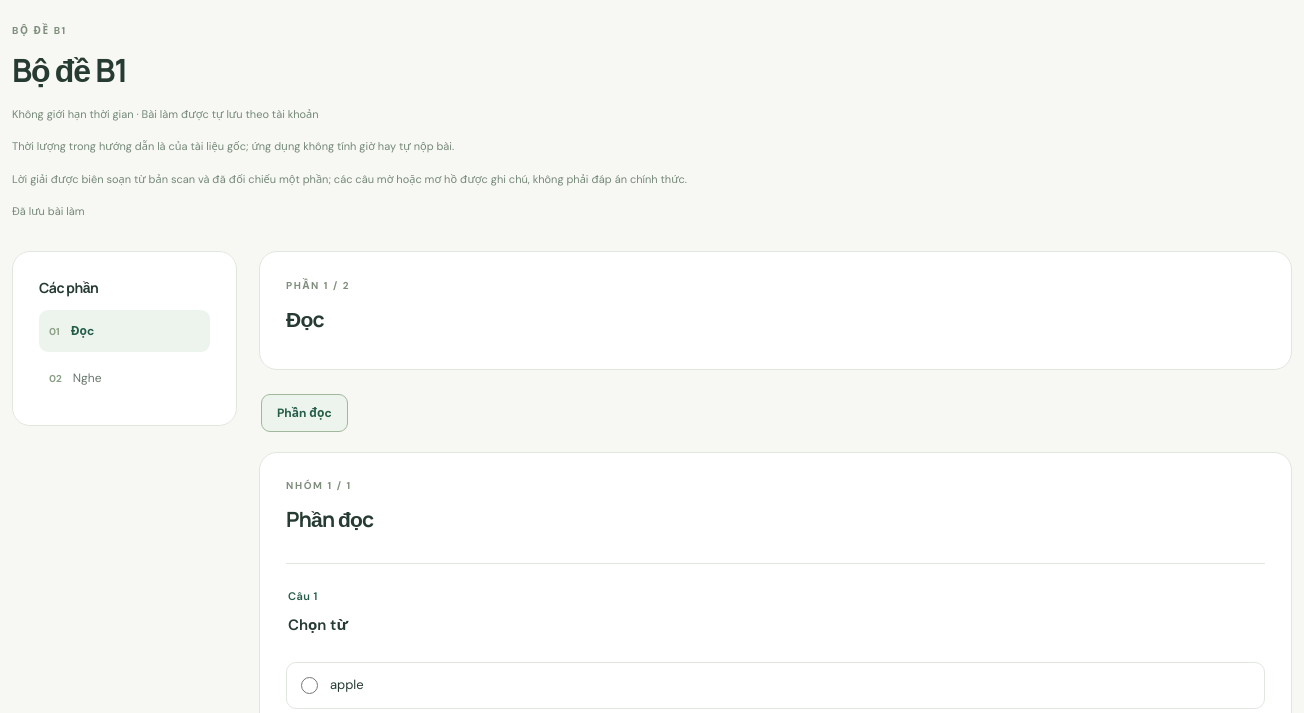
Bộ đề B1 › shows reading answers on demand and keeps selections across sections
Check: the text "Chọn từ" is shown, box [288,614,348,634]
Click the radio button labelled "apple" at [310, 686], box [301,677,318,694]
(page scrolled)
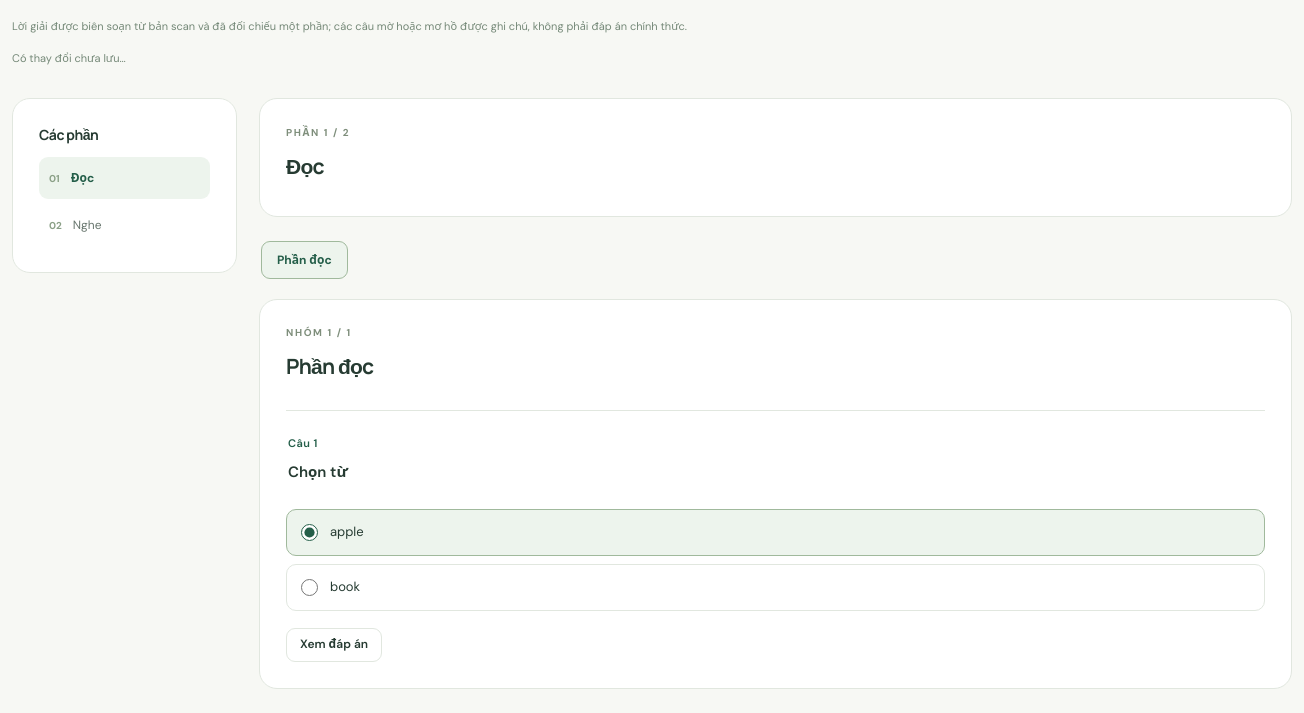
Click the button "Xem đáp án" at [334, 645], box [286,628,382,662]
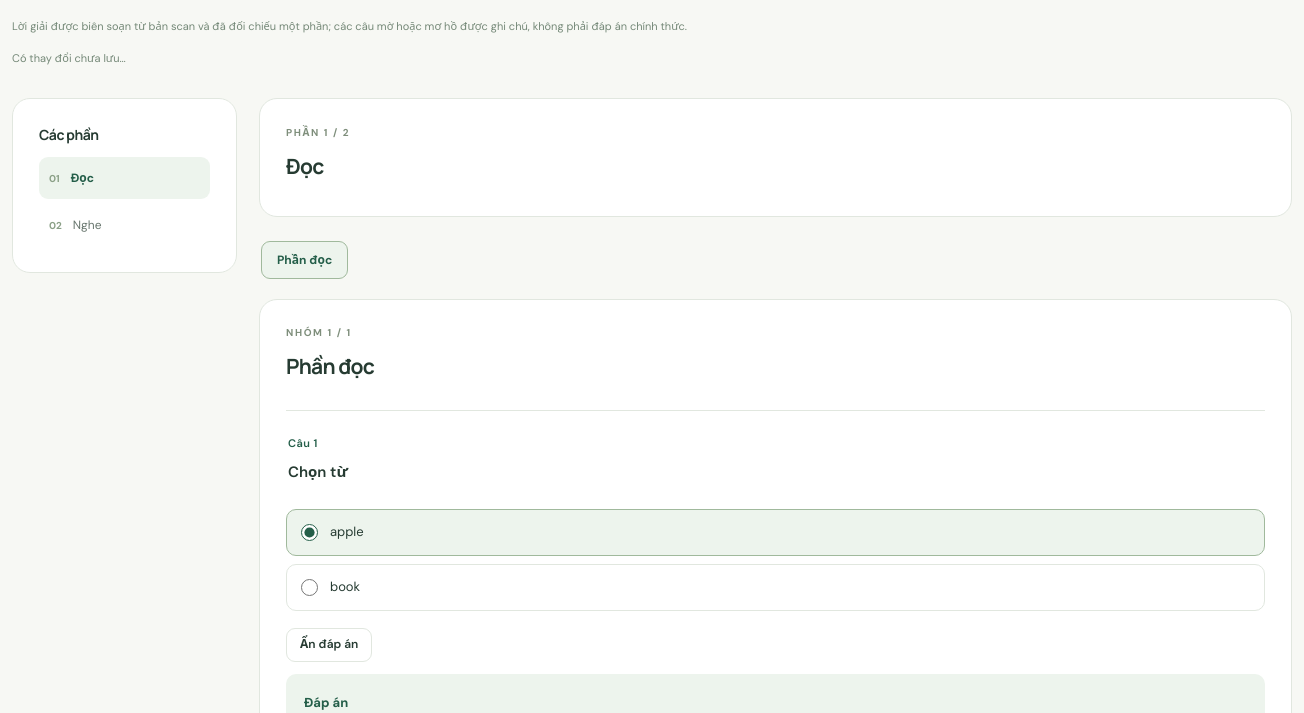
Click the button "02 Nghe" at [124, 226], box [39,204,210,246]
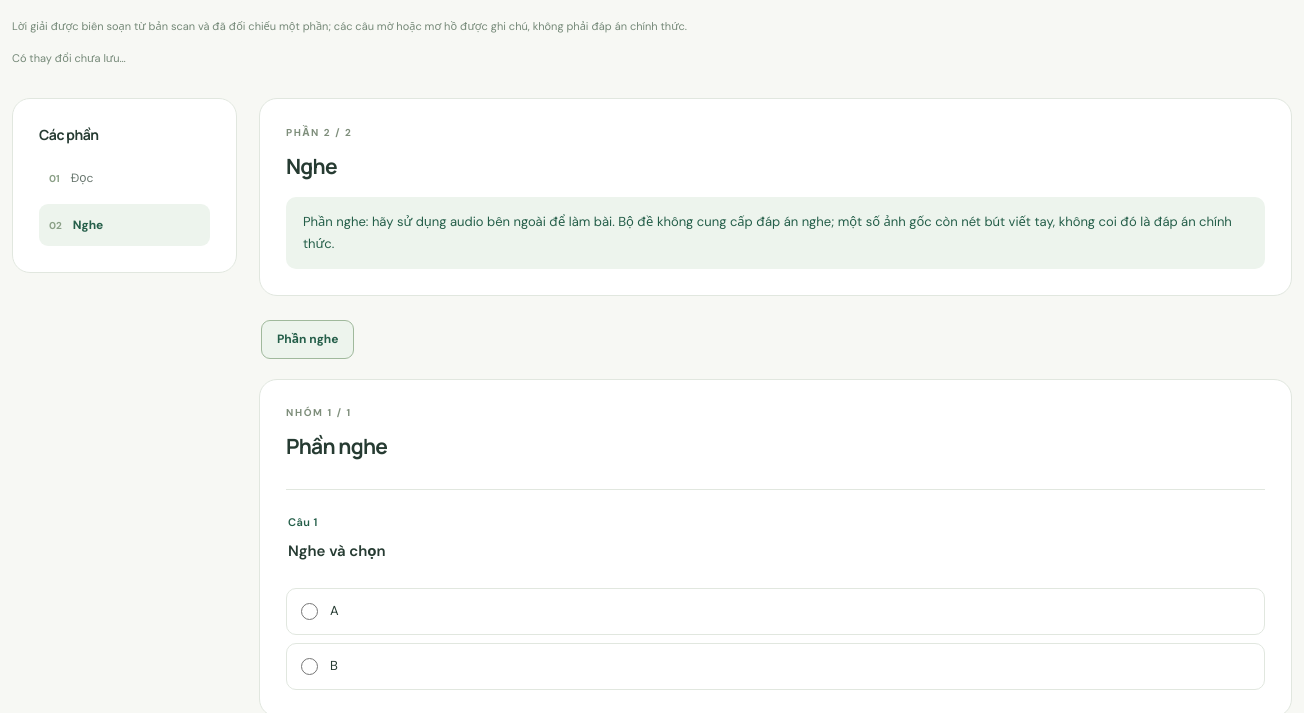
Check: the button "Xem đáp án" is not shown
Check: the text "Nghe và chọn" is shown, box [288,541,386,561]
Click the radio button labelled "A" at [310, 612], box [301,603,318,620]
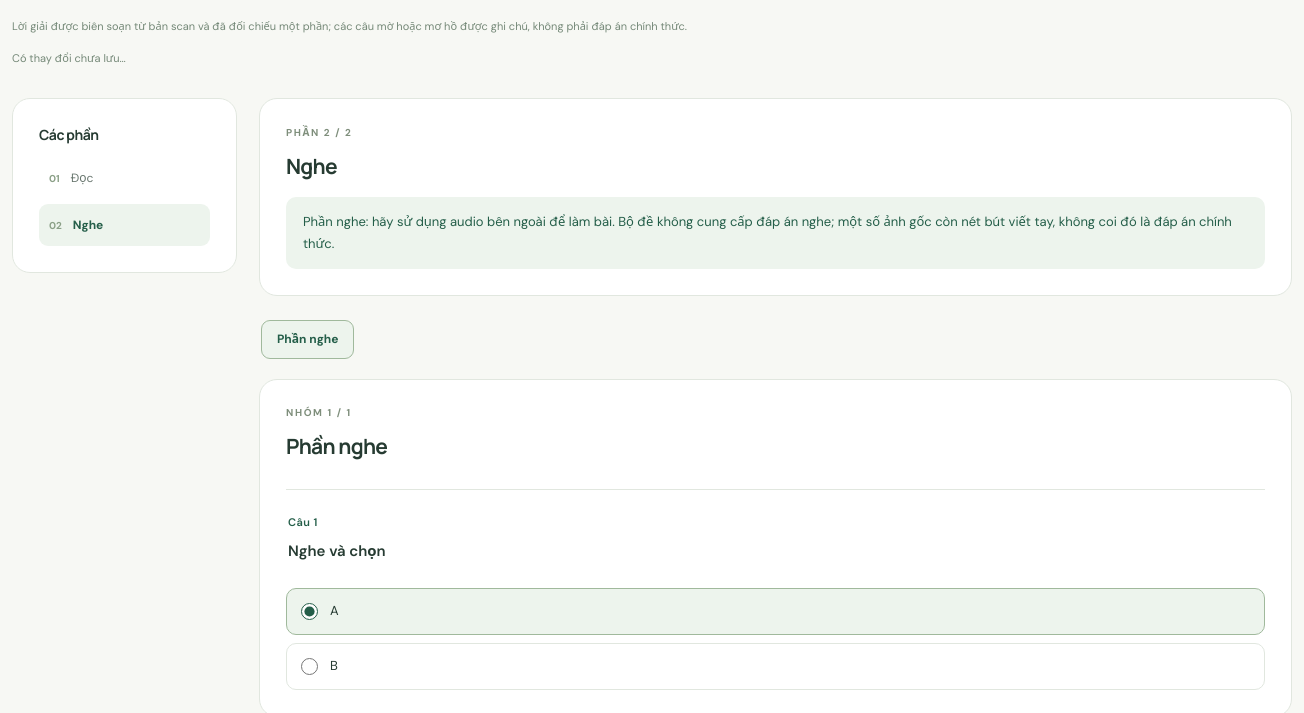
Click the button "01 Đọc" at [124, 178], box [39,158,210,200]
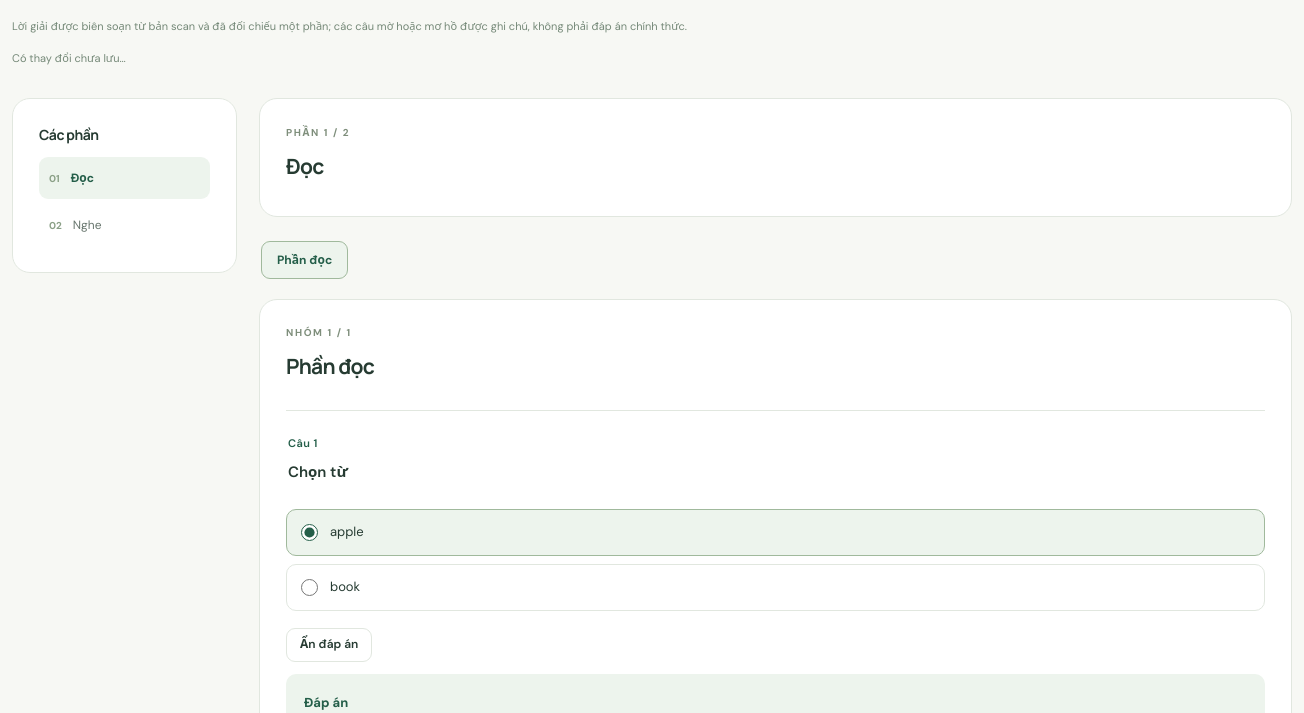
Check: the radio button labelled "apple" is checked, box [301,524,318,541]
